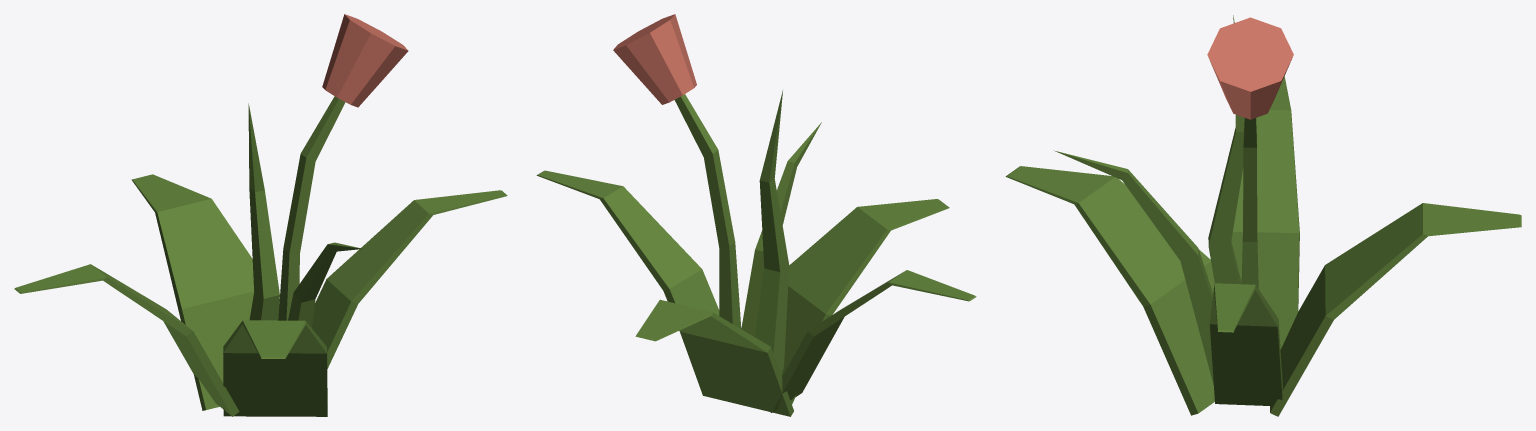
Rendered from Flower_10.fbx.
3 renders of one model, left to right at view 1: azimuth 30°, elevation 25°; view 2: azimuth 150°, elevation 25°; view 3: azimuth 270°, elevation 25°, orthographic. The views are drawn at different scales.
Visible parts, largest first — view 1: Flower_10; view 2: Flower_10; view 3: Flower_10.
Boxes of the visible parts, x1,y1,x2,y2 form: Flower_10: (14, 14, 507, 416); Flower_10: (536, 14, 976, 416); Flower_10: (1005, 15, 1521, 416).
Bounding box in the file's own units: 44.34 × 33.24 × 36.57.
